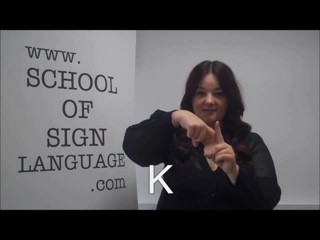K: (168, 103, 244, 178)
